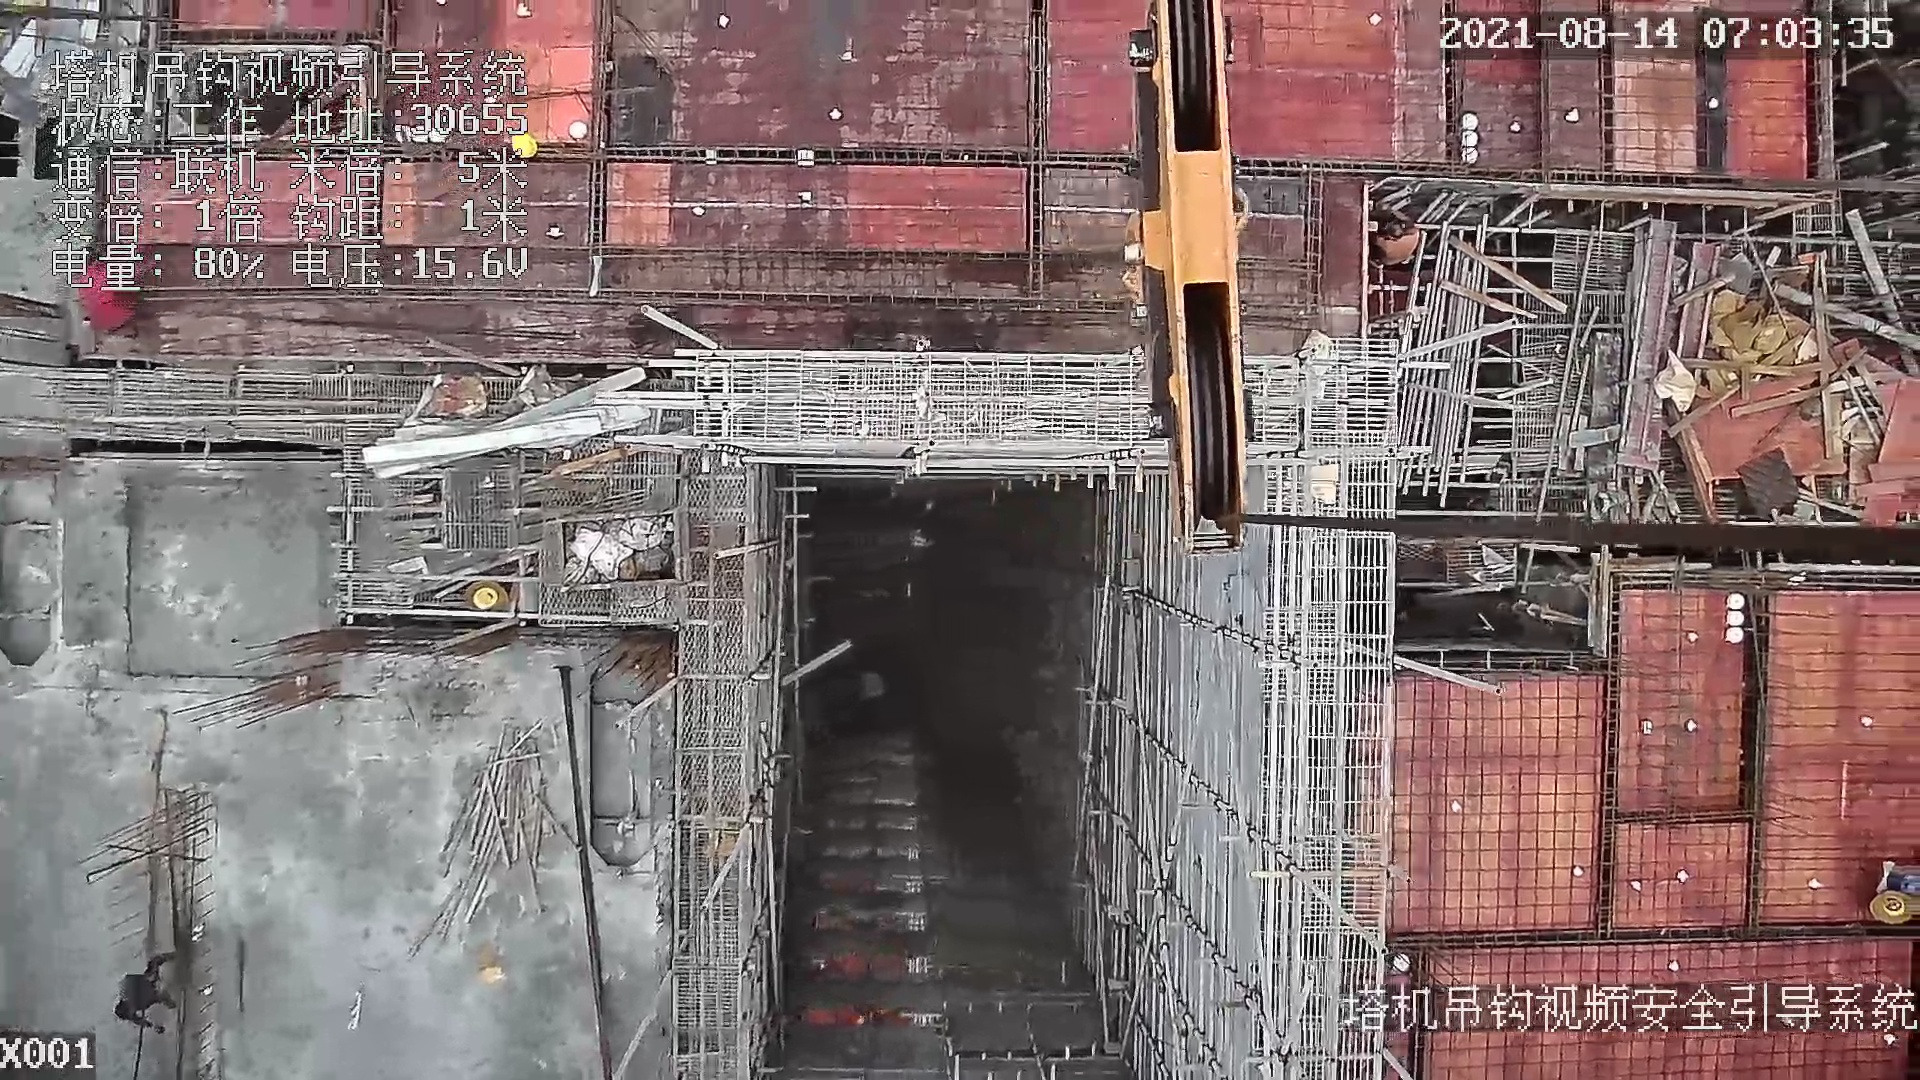helmet: (507, 130, 546, 157)
hook: (1100, 1, 1260, 565)
person: (114, 950, 179, 1036), (75, 244, 133, 337)
